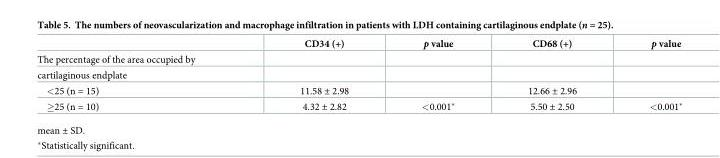table: (36, 36, 681, 118)
table column: (36, 36, 246, 118), (246, 36, 384, 118), (490, 36, 612, 118), (384, 36, 490, 118), (612, 36, 681, 118)
table column header: (36, 36, 681, 51)
table projected row header: (36, 51, 681, 67), (36, 67, 681, 81)
table row: (36, 98, 681, 118), (36, 81, 681, 98), (36, 51, 681, 67), (36, 36, 681, 51), (36, 67, 681, 81)
